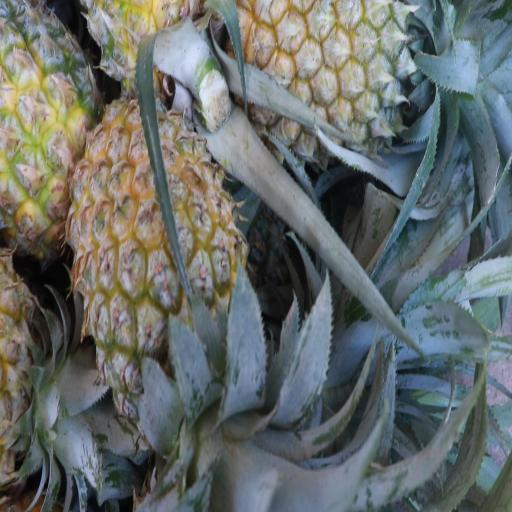------------------------------: (1, 0, 98, 274)
Pineapple - v8 v1: (62, 84, 257, 512), (216, 0, 441, 167)
